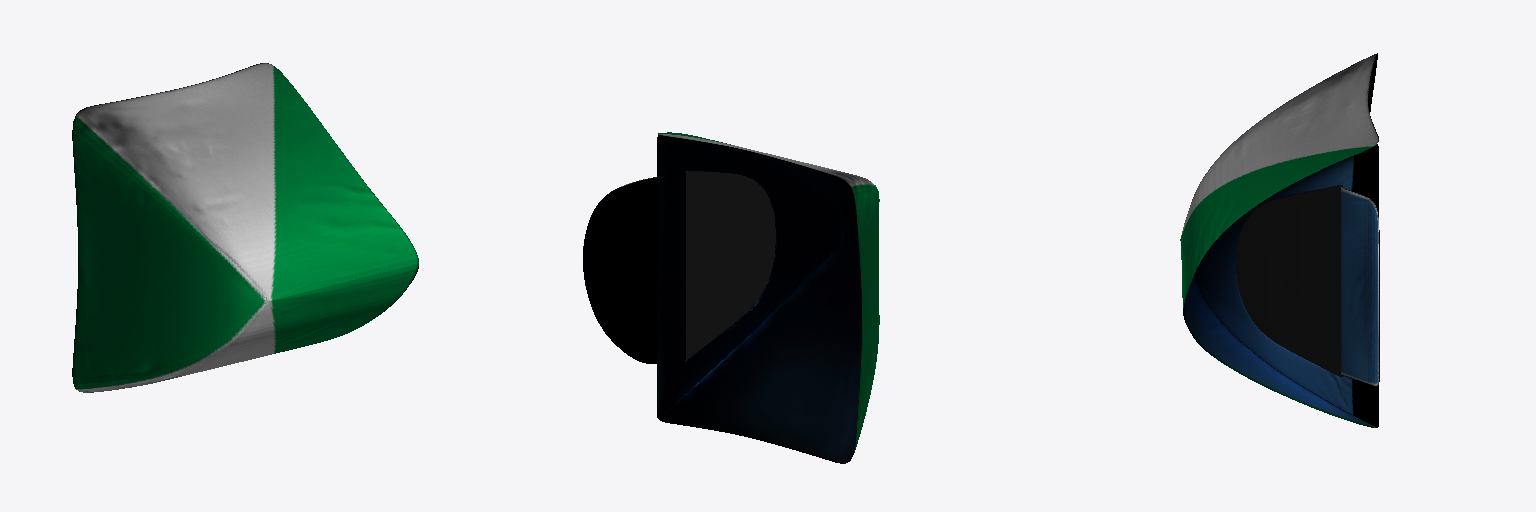
The picture shows the model from 3 angles: view 1: azimuth 30°, elevation 25°; view 2: azimuth 150°, elevation 25°; view 3: azimuth 270°, elevation 25°; orthographic projection.
Visible parts, largest first — view 1: 10495_Green_Mesh_Tent_Base; view 2: 10495_Green_Mesh_Tent_Base, 10495_Green_Mesh_Tent_Opacity; view 3: 10495_Green_Mesh_Tent_Base, 10495_Green_Mesh_Tent_Opacity.
Boxes of the visible parts, box(x1,y1,x2,y2) form: 10495_Green_Mesh_Tent_Base: box(72, 63, 418, 392); 10495_Green_Mesh_Tent_Base: box(583, 132, 879, 463); 10495_Green_Mesh_Tent_Opacity: box(685, 171, 775, 360); 10495_Green_Mesh_Tent_Base: box(1180, 53, 1379, 427); 10495_Green_Mesh_Tent_Opacity: box(1236, 185, 1342, 376).
Bounding box in the file's own units: 207 × 208 × 131.
2 materials, 1 textured.